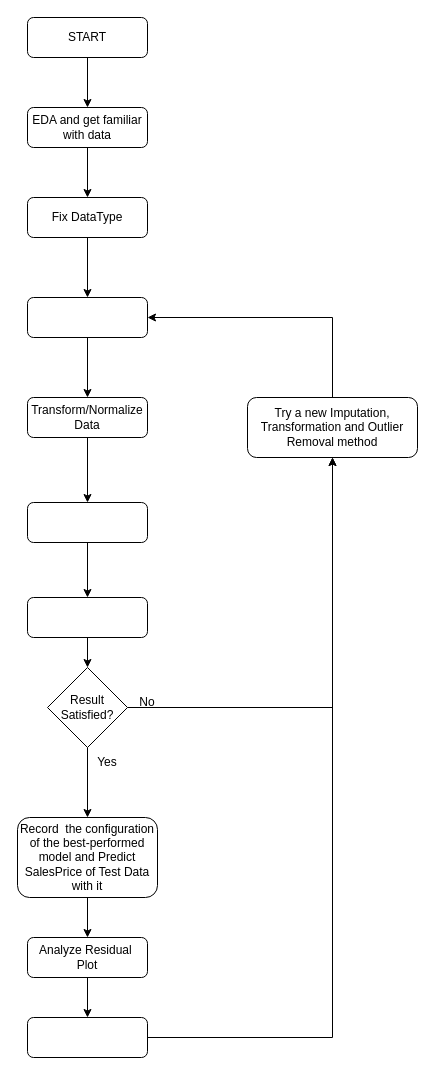
The diagram is 435 pixels wide and 1075 high, and some of its shapes have lost their labels. Here are the shapes that lost their labels. From the top down, the centre of each, then its label:
At point 87,317: "Impute Missing Values".
At point 87,522: "Remove Outliers".
At point 87,617: "Train and Cross-Validate".
At point 87,1037: "Submit and Evaluate on Kaggle".
